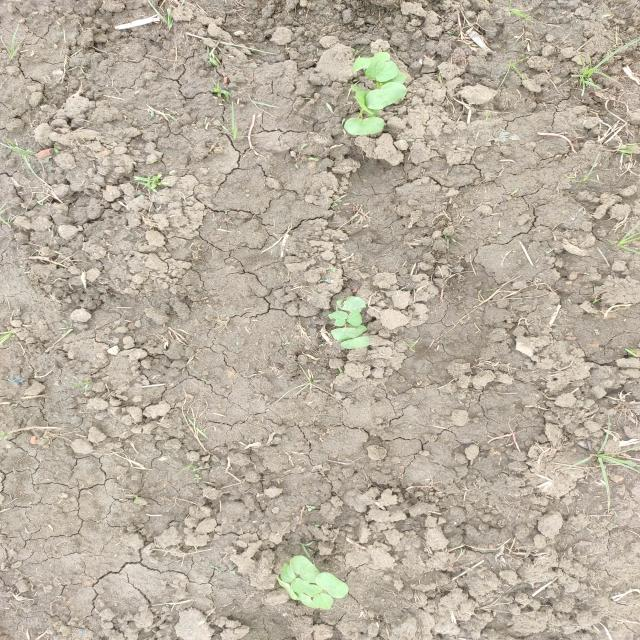seedling_s4: (365, 82, 406, 110), (314, 572, 348, 598), (290, 555, 320, 583), (352, 52, 390, 73), (344, 116, 384, 135), (365, 60, 398, 82), (276, 575, 298, 600), (337, 296, 366, 312), (354, 91, 374, 114), (294, 592, 319, 609), (331, 327, 363, 340), (313, 593, 334, 610), (341, 337, 370, 349), (328, 311, 348, 326), (281, 563, 296, 583), (301, 584, 322, 598), (291, 578, 310, 593), (347, 311, 362, 326), (346, 323, 366, 332)
